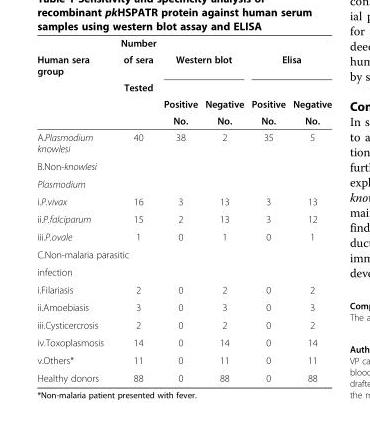table: (36, 36, 331, 383)
table column: (36, 36, 111, 383), (111, 36, 159, 383), (200, 36, 247, 383), (288, 36, 331, 383), (159, 36, 200, 383), (247, 36, 288, 383)
table column header: (36, 36, 331, 128)
table projected row header: (36, 174, 331, 192), (36, 262, 331, 280), (36, 157, 331, 174), (36, 245, 331, 262)
table row: (36, 128, 331, 157), (36, 50, 331, 78), (36, 174, 331, 192), (36, 209, 331, 227), (36, 227, 331, 245), (36, 262, 331, 280), (36, 280, 331, 298), (36, 315, 331, 333), (36, 333, 331, 351), (36, 78, 331, 95), (36, 111, 331, 128), (36, 157, 331, 174), (36, 192, 331, 209), (36, 245, 331, 262), (36, 298, 331, 315), (36, 351, 331, 368), (36, 95, 331, 111), (36, 368, 331, 383), (36, 36, 331, 50)
table spanning cell: (36, 36, 111, 128), (111, 36, 159, 128), (159, 50, 247, 78), (247, 50, 331, 78), (200, 78, 247, 128), (288, 78, 331, 128), (159, 78, 200, 128), (247, 78, 288, 128)
